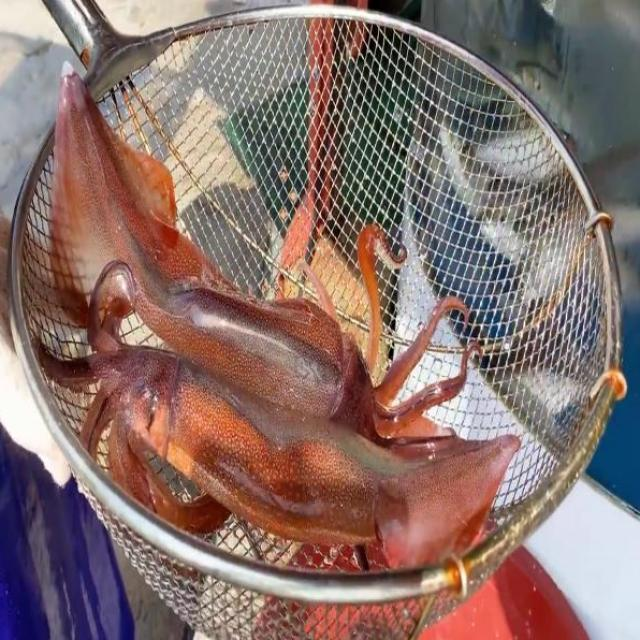SQUID: (78, 372, 541, 572), (76, 282, 493, 407), (45, 48, 206, 346)
